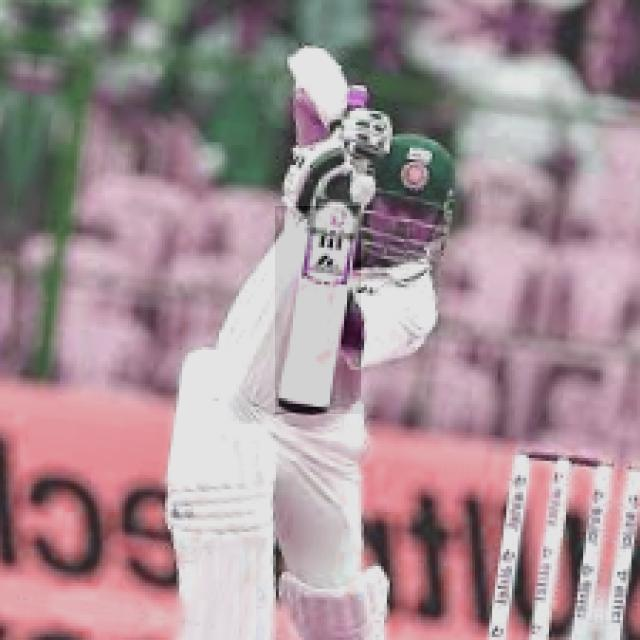bat: (269, 203, 360, 416)
toe: (275, 401, 333, 412)
